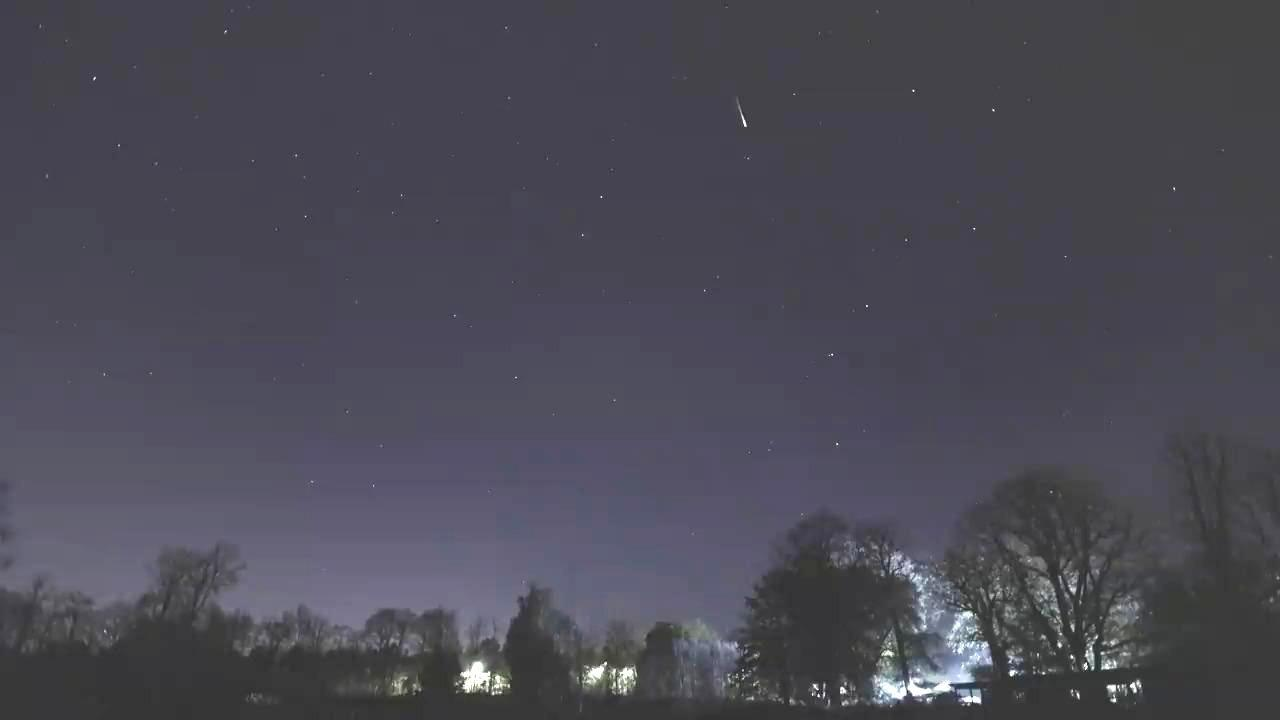meteorite: (679, 94, 796, 130)
